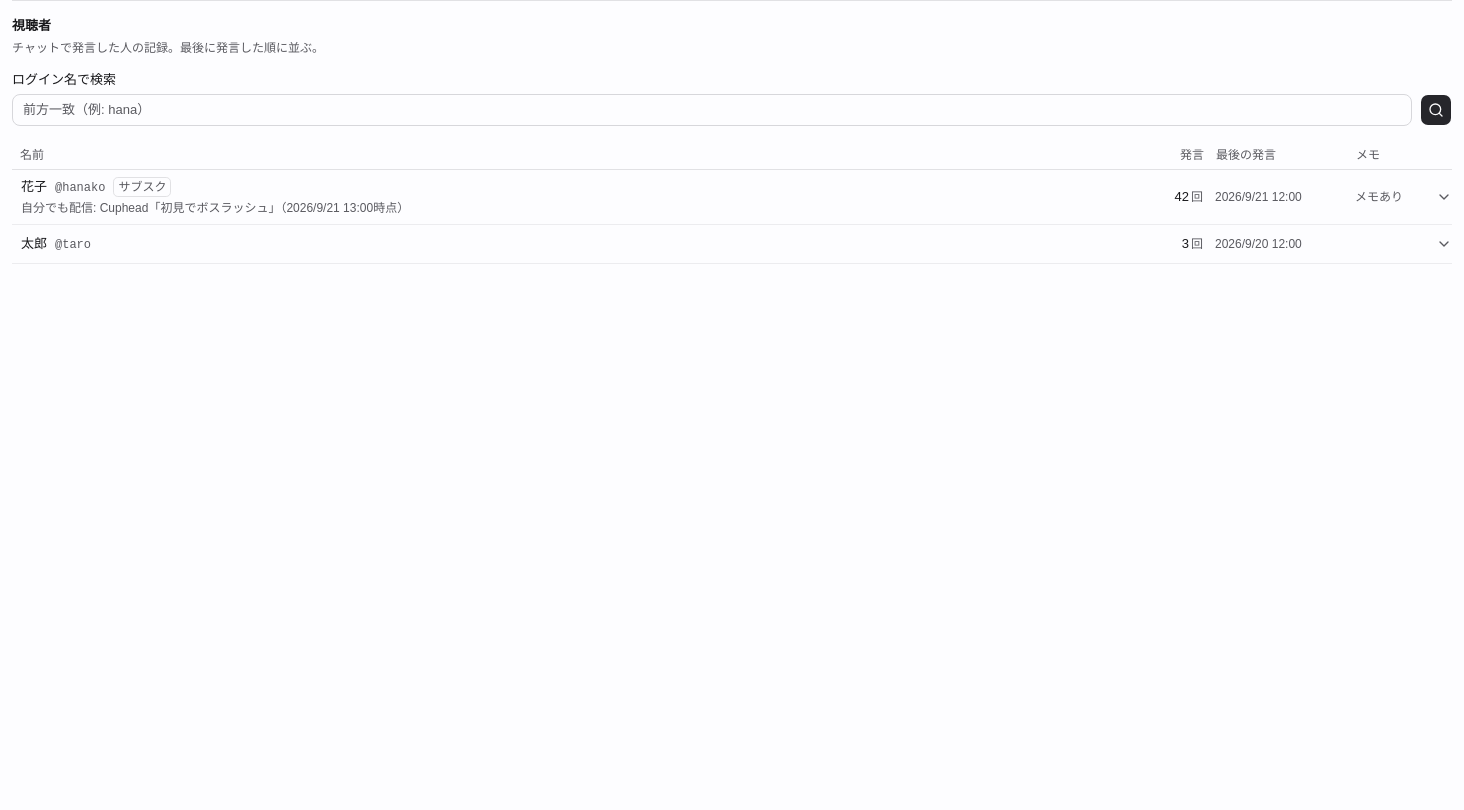
Scenario: メモ › 書いたメモを保存し、保存したことを知らせる
expect the list named "視聴者の一覧" is shown: met, box [12,170,1452,264]
Click the button "花子". click: point(84, 188)
box: [12,170,1428,224]
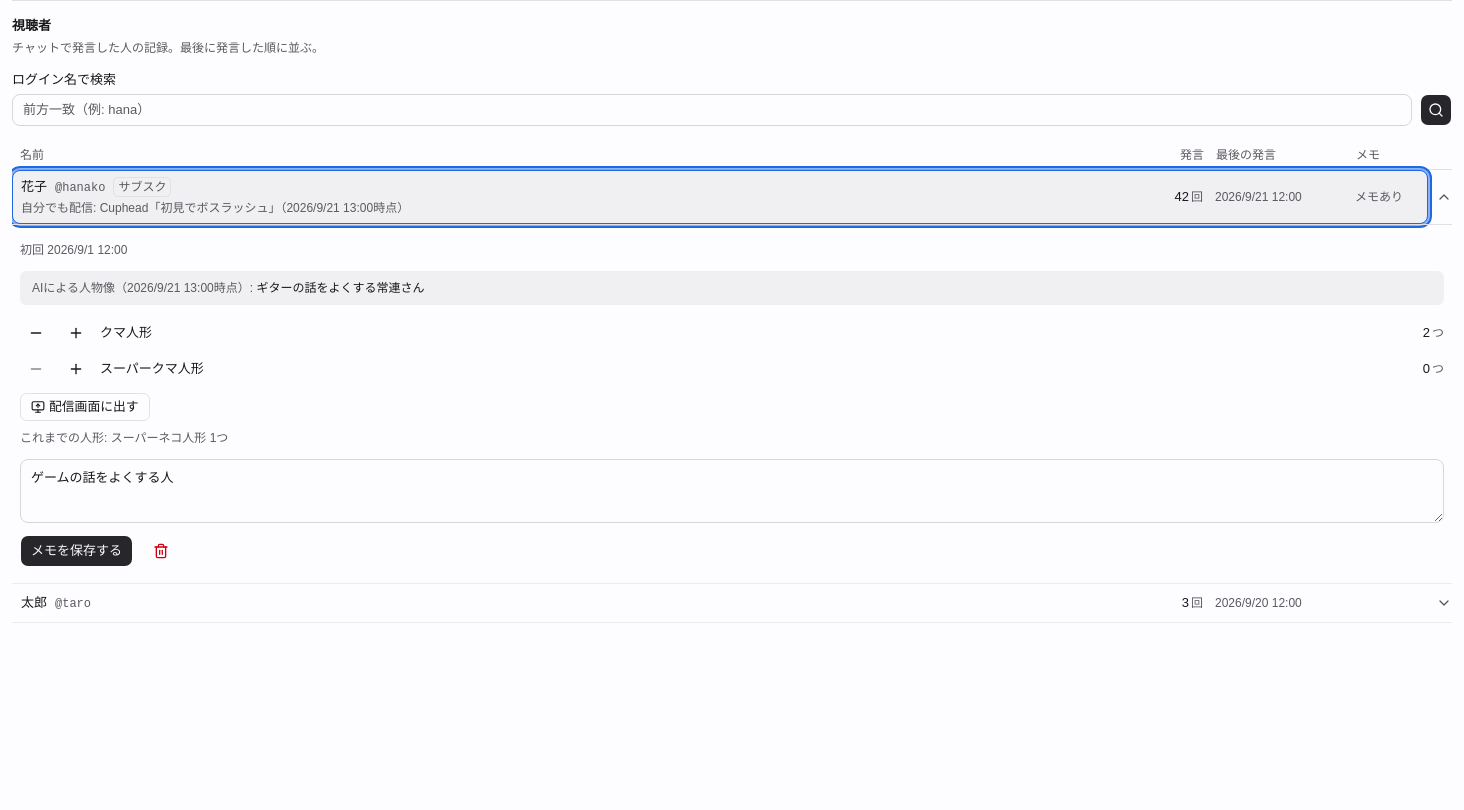
Replace the text in the text box named "花子 へのメモ" with "常連さん". click: point(732, 491)
box: [20,459,1444,523]
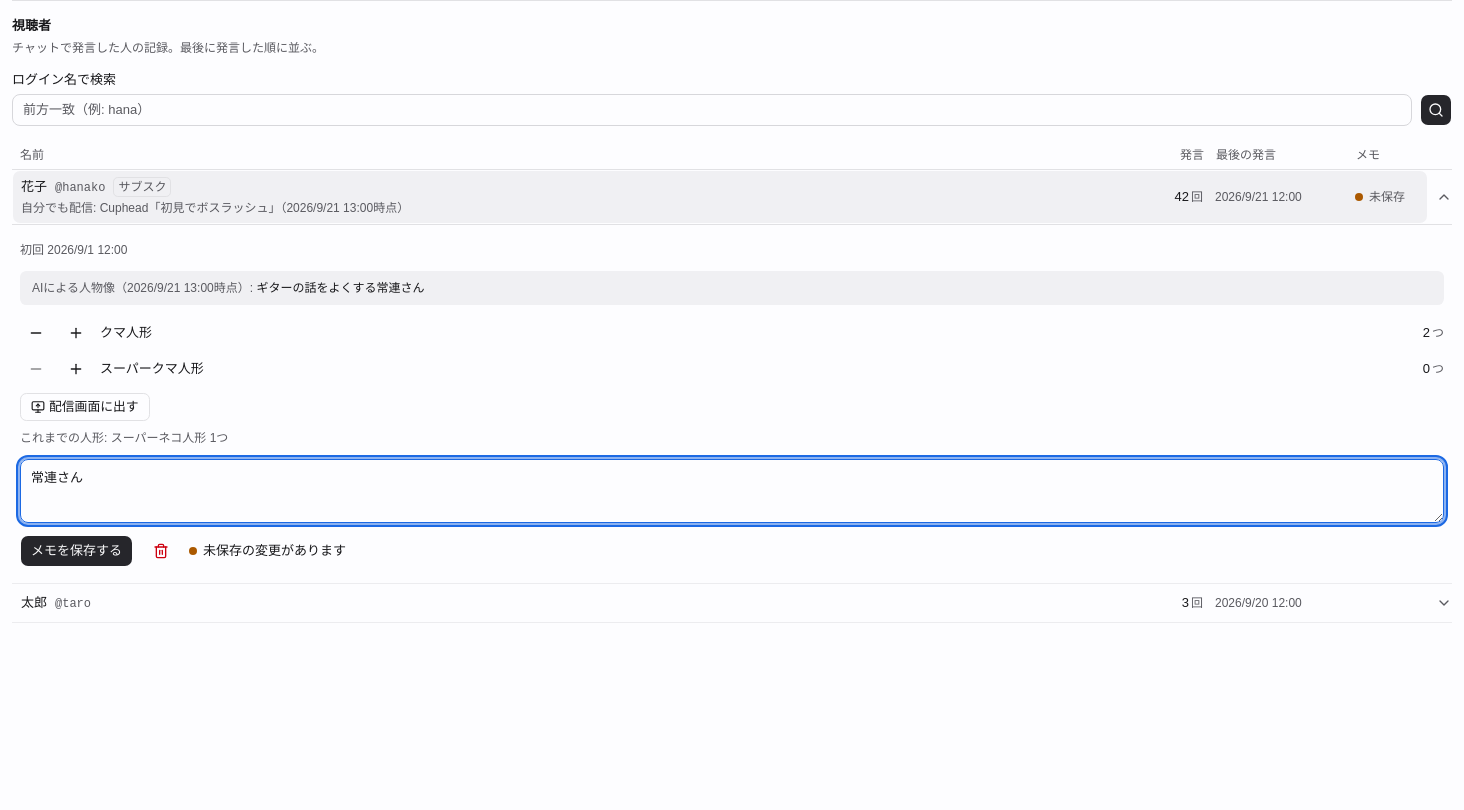
Click the button with aria-label "花子 のメモを保存する". click: point(76, 551)
box: [20,535,133,567]
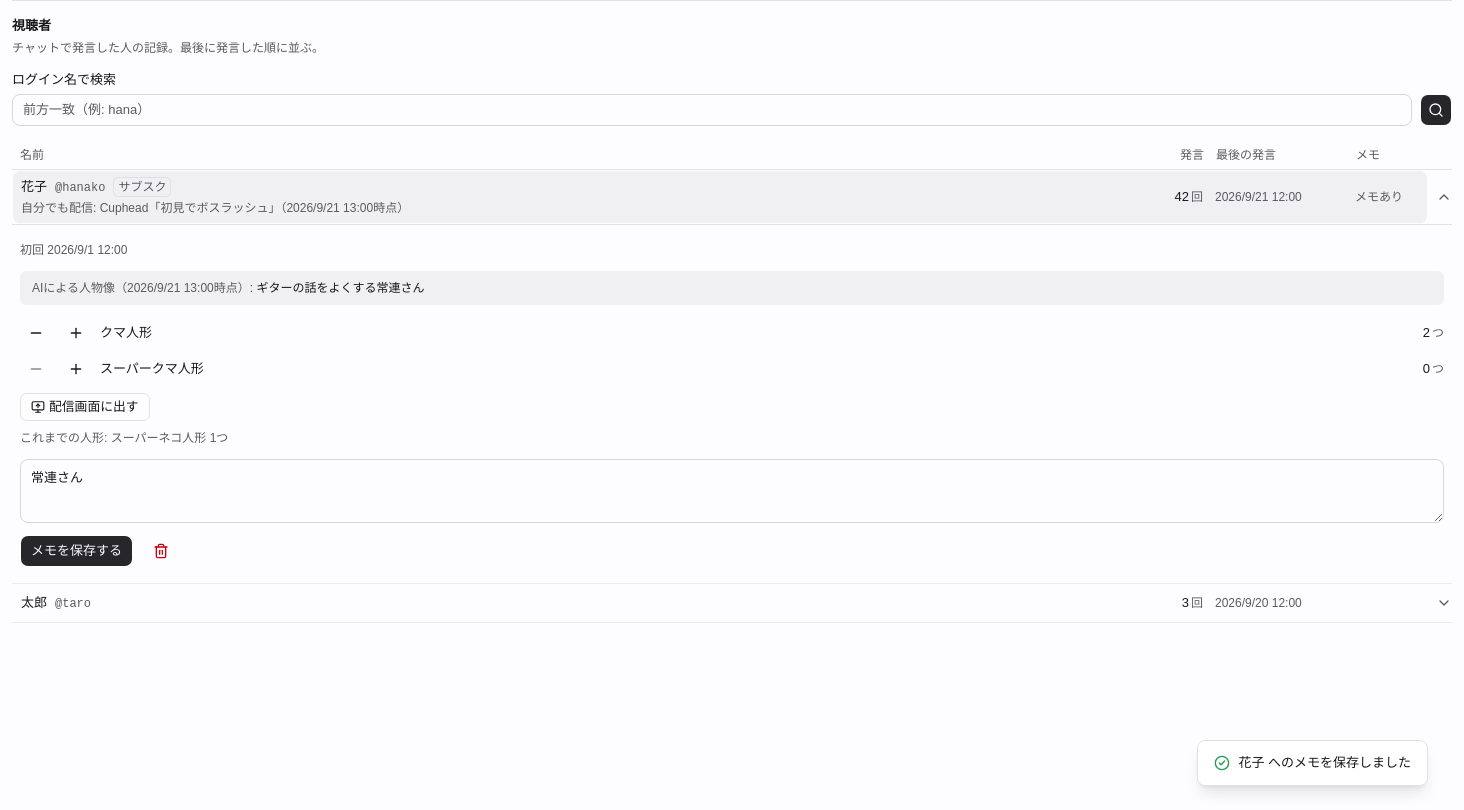
expect the text "花子 へのメモを保存しました" is shown: met, box [1197,740,1428,786]
